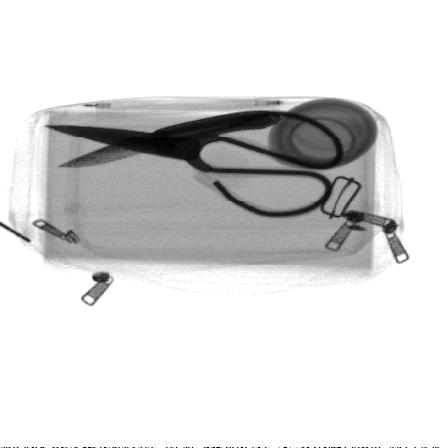Knife: (56, 110, 283, 167)
Scissors: (44, 110, 348, 216)
